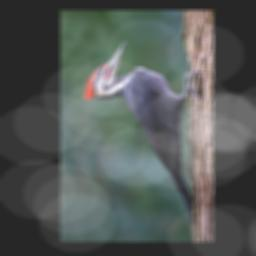Woodpecker: (85, 42, 205, 240)
